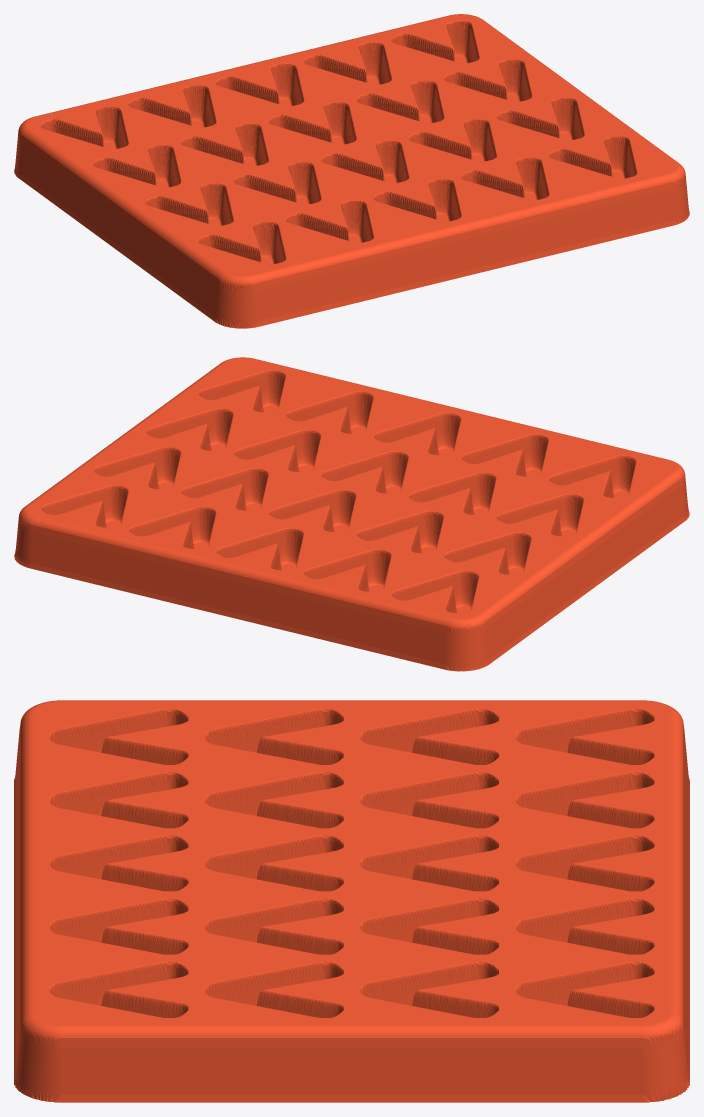
The model's file is mold.glb.
3 renders of one model, top to bottom at view 1: azimuth 30°, elevation 25°; view 2: azimuth 150°, elevation 25°; view 3: azimuth 270°, elevation 25°, orthographic. The views are drawn at different scales.
Parts seen in each view (by area): view 1: geometry_0; view 2: geometry_0; view 3: geometry_0.
Part boxes in pixels (box(x1,y1,x2,y2)): geometry_0: box(14, 14, 689, 328); geometry_0: box(14, 357, 689, 671); geometry_0: box(14, 700, 689, 1102).
Bounding box in the file's own units: 0.1519 × 0.0145 × 0.1278.
